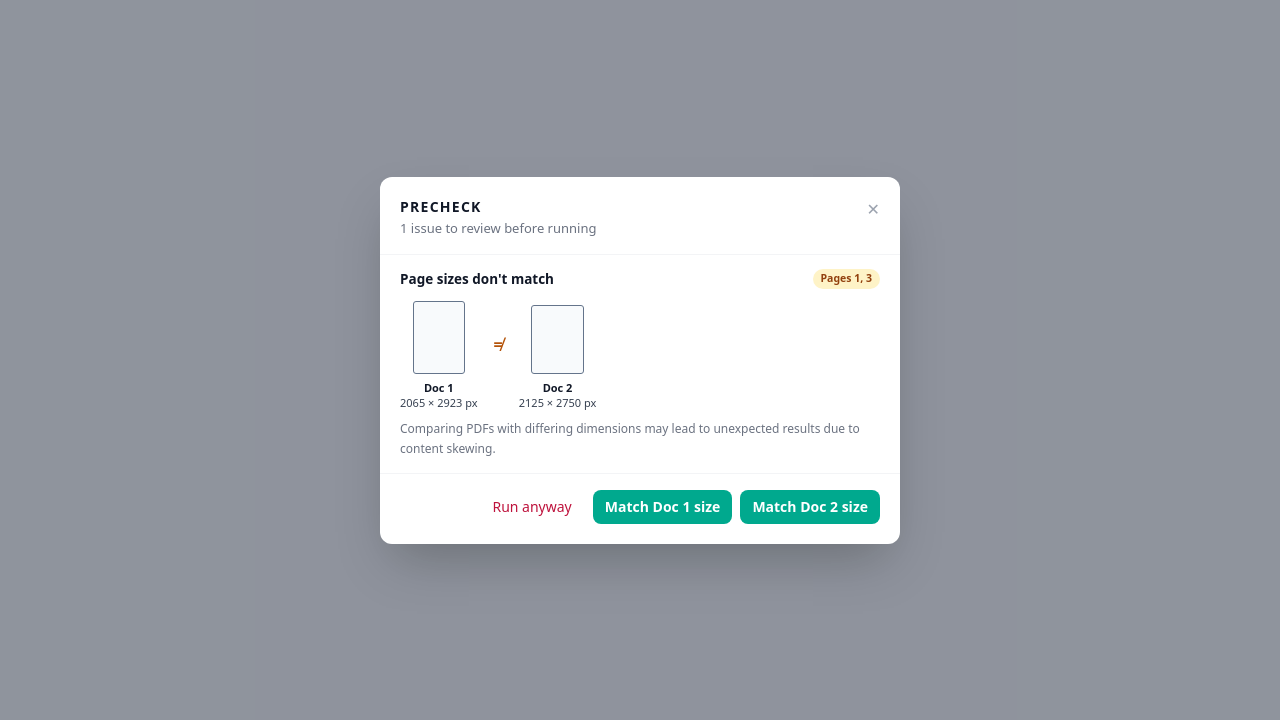
Test: PrecheckPanel dimension-mismatch fixes › dismisses the dialog after applying a Match size fix
This screenshot has width=1280, height=720.
Click the button "Match Doc 1 size": x=663, y=506 [593,490,732,524]
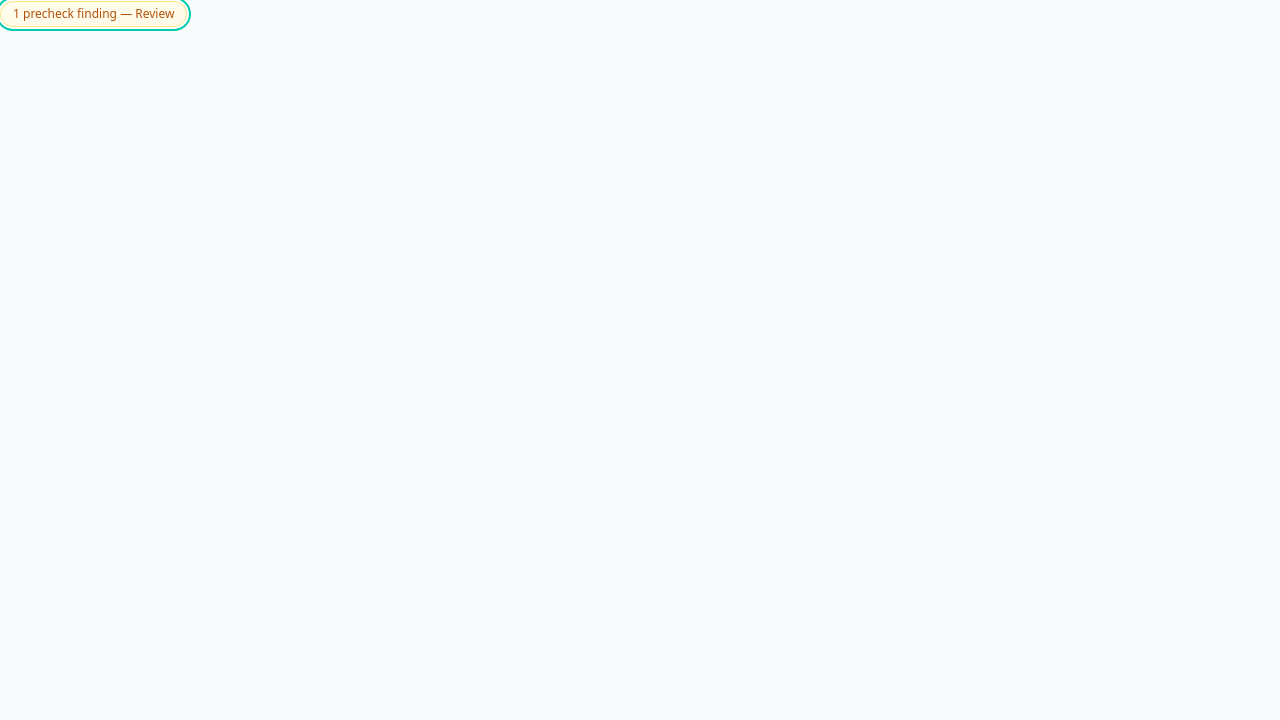
Expected: the dialog is gone
